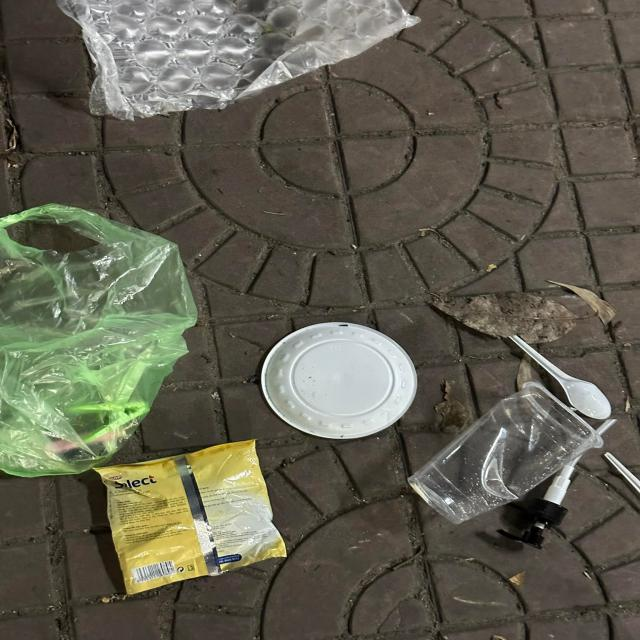bag: (0, 203, 200, 477), (56, 0, 422, 119)
plastic glass: (408, 382, 604, 524)
plastic holder: (262, 322, 417, 438)
plastic utensil: (508, 334, 612, 420)
snack package: (92, 440, 288, 594)
